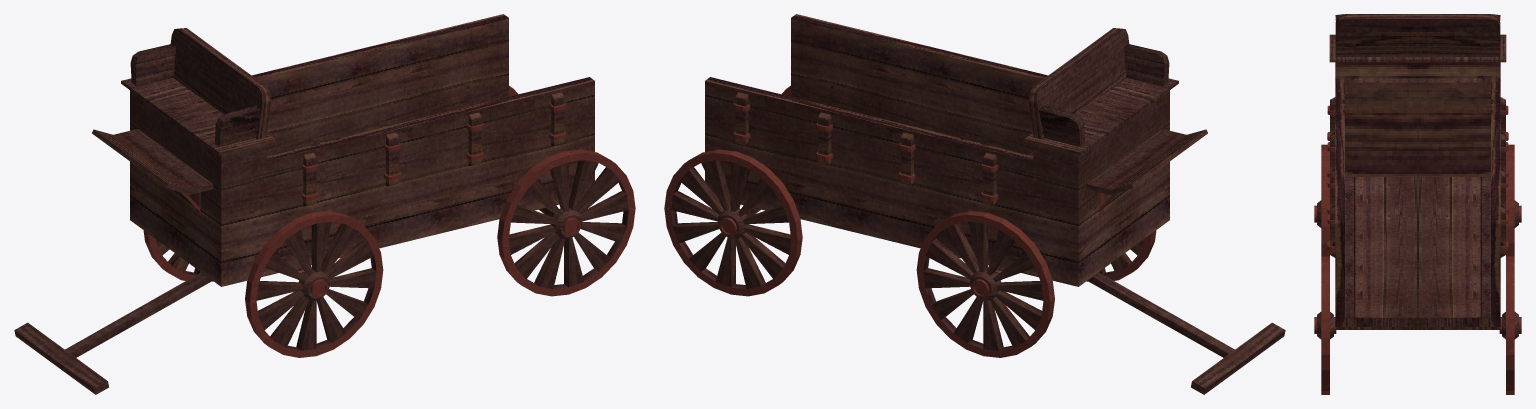
File: Wagon.glb
The picture shows the model from 3 angles, left to right: view 1: azimuth 30°, elevation 25°; view 2: azimuth 150°, elevation 25°; view 3: azimuth 270°, elevation 25°; orthographic projection. The views are drawn at different scales.
Parts seen in each view (by area): view 1: Wagon; view 2: Wagon; view 3: Wagon.
Part boxes in pixels (x1,y1,x2,y2): Wagon: [14, 14, 635, 394]; Wagon: [664, 14, 1285, 394]; Wagon: [1314, 14, 1521, 394].
Size of the model in its own units: 4.5 by 2.2 by 1.69.
1 material, 1 textured.
